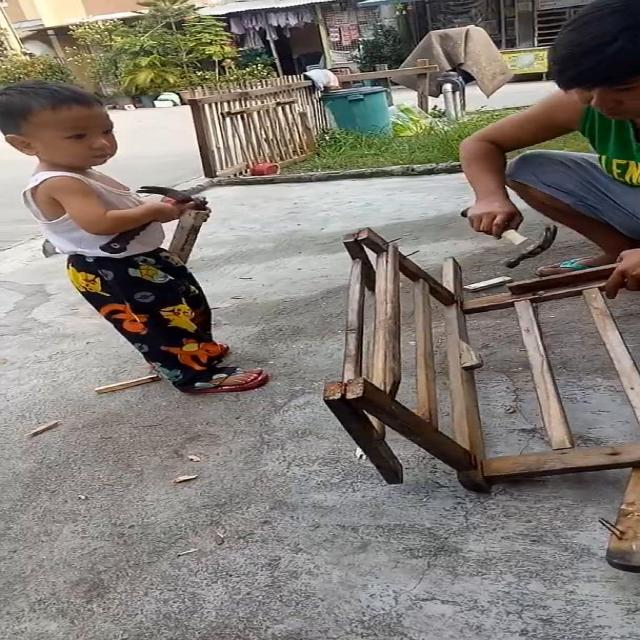hammer: (98, 185, 206, 254), (460, 206, 558, 269)
